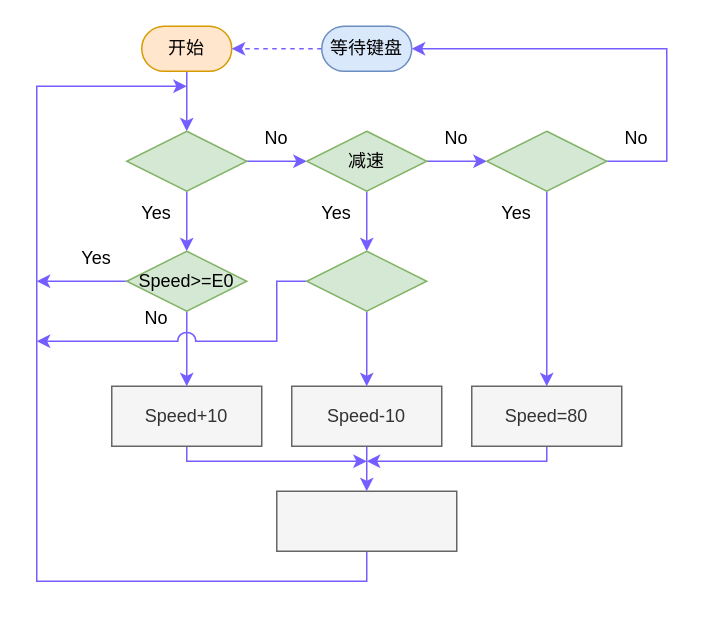
The diagram is 705 pixels wide and 620 high, and some of its shapes have lost their labels. Each missing label, with the centre of its shape:
"Speed<=B0" belongs at point 366,280.
"停止" belongs at point 546,160.
"加速" belongs at point 186,160.
"屏幕输出" belongs at point 366,520.
